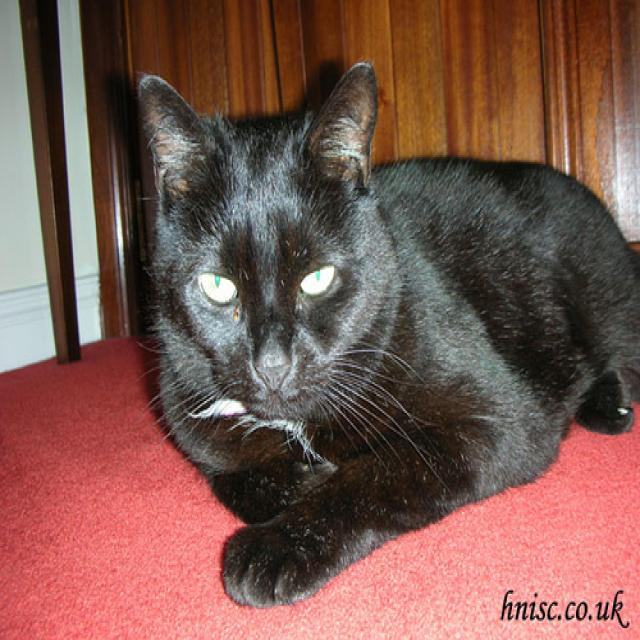cat: (133, 61, 640, 610)
